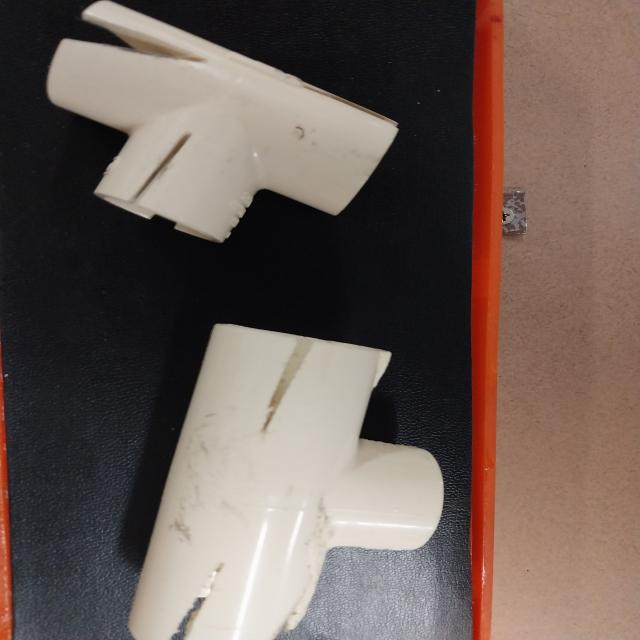Defective: (261, 339, 315, 433), (132, 134, 191, 219), (72, 14, 181, 58), (170, 565, 224, 640)
T Joint: (127, 324, 442, 640), (45, 0, 401, 247)
